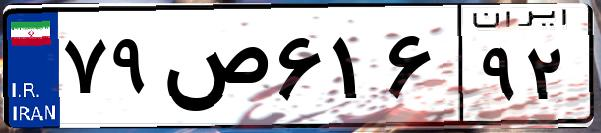1: (330, 28, 385, 110)
2: (525, 38, 570, 115)
6: (270, 28, 330, 110), (385, 28, 445, 110)
7: (57, 26, 110, 100)
9: (475, 38, 525, 113), (110, 28, 158, 98)
ص: (158, 20, 270, 120)
